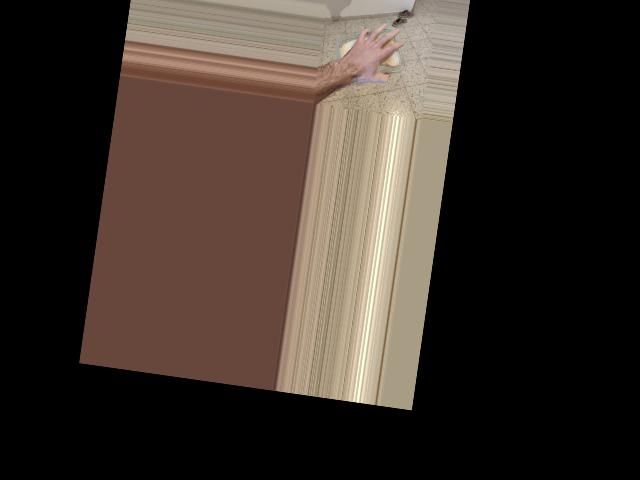cheese: (333, 18, 407, 91)
